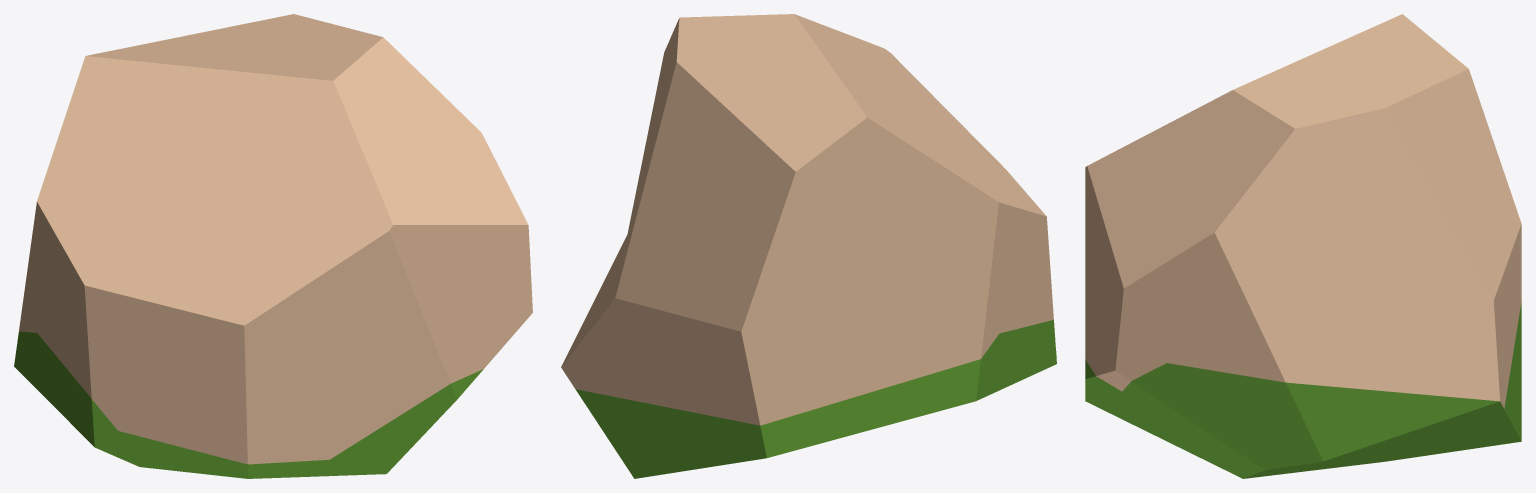
Rendered from Rock5.fbx.
3 views of the same model, side by side, from view 1: azimuth 30°, elevation 25°; view 2: azimuth 150°, elevation 25°; view 3: azimuth 270°, elevation 25° (orthographic). The views are drawn at different scales.
Visible parts, largest first — view 1: Cube.005; view 2: Cube.005; view 3: Cube.005.
Boxes of the visible parts, x1,y1,x2,y2 form: Cube.005: (14,14,532,478); Cube.005: (561,14,1056,478); Cube.005: (1085,14,1521,478).
Bounding box in the file's own units: 113 × 105 × 113.
